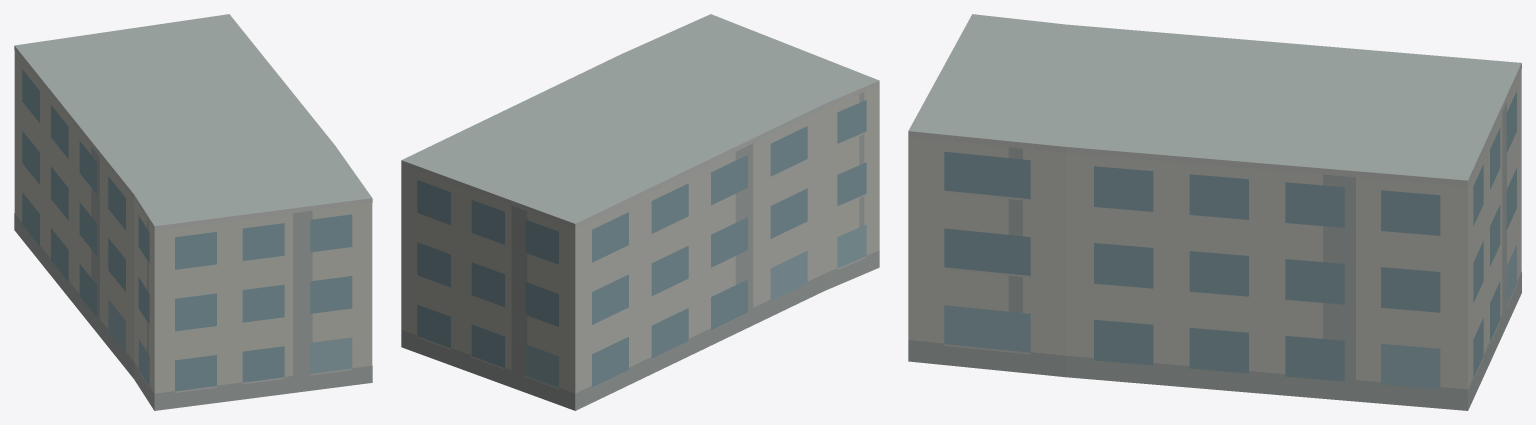
Rendered from survey-upis-32780817.glb.
The picture shows the model from 3 angles, left to right: view 1: azimuth 30°, elevation 25°; view 2: azimuth 150°, elevation 25°; view 3: azimuth 270°, elevation 25°; orthographic projection. The views are drawn at different scales.
Visible parts, largest first — view 1: survey-upis-32780817.tmp; view 2: survey-upis-32780817.tmp; view 3: survey-upis-32780817.tmp.
Part boxes in pixels (x1=…): survey-upis-32780817.tmp: x1=14, y1=14, x2=372, y2=410; survey-upis-32780817.tmp: x1=401, y1=14, x2=879, y2=410; survey-upis-32780817.tmp: x1=908, y1=14, x2=1521, y2=410.
Bounding box in the file's own units: 14.2 × 9.15 × 22.1.
